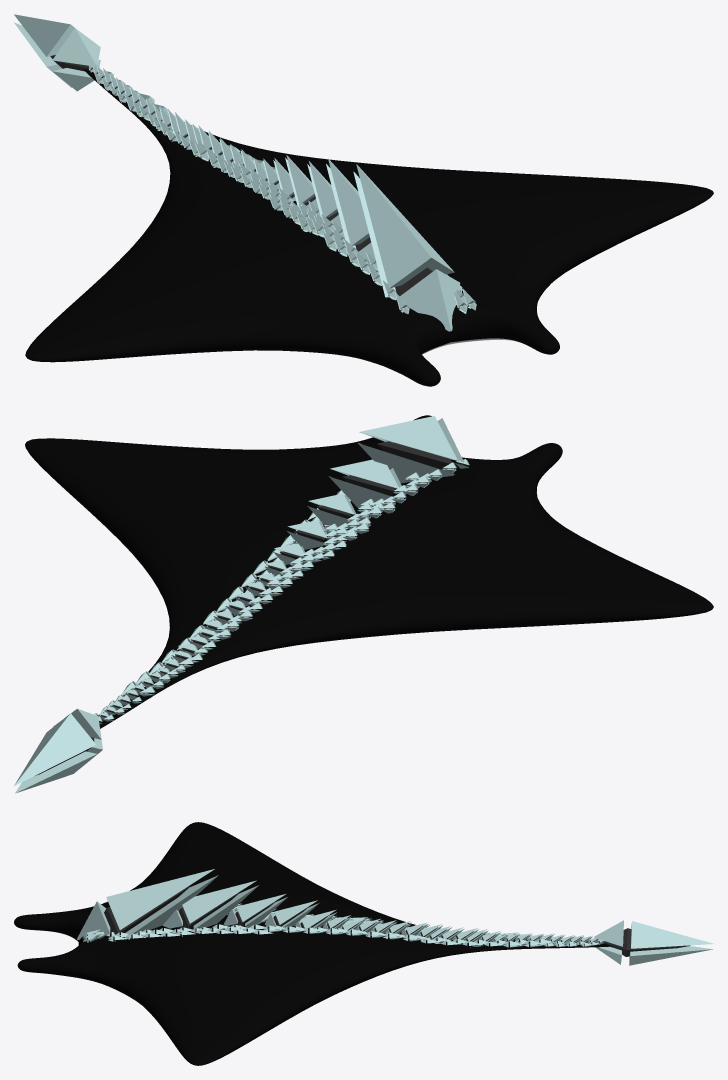
Rendered from enemy_boss1.fbx.
3 renders of one model, top to bottom at view 1: azimuth 30°, elevation 25°; view 2: azimuth 150°, elevation 25°; view 3: azimuth 270°, elevation 25°, orthographic. The views are drawn at different scales.
Parts seen in each view (by area): view 1: Cube; view 2: Cube; view 3: Cube.
Part boxes in pixels (x1,y1,x2,y2): Cube: (14,14,713,386); Cube: (14,415,713,793); Cube: (14,822,713,1065).
Bounding box in the file's own units: 6.27 × 1.16 × 7.63.
